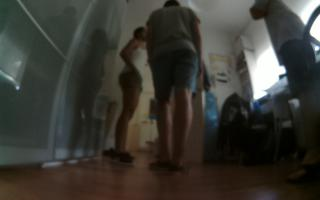person: (246, 1, 320, 186), (141, 1, 205, 180), (103, 23, 154, 170)
